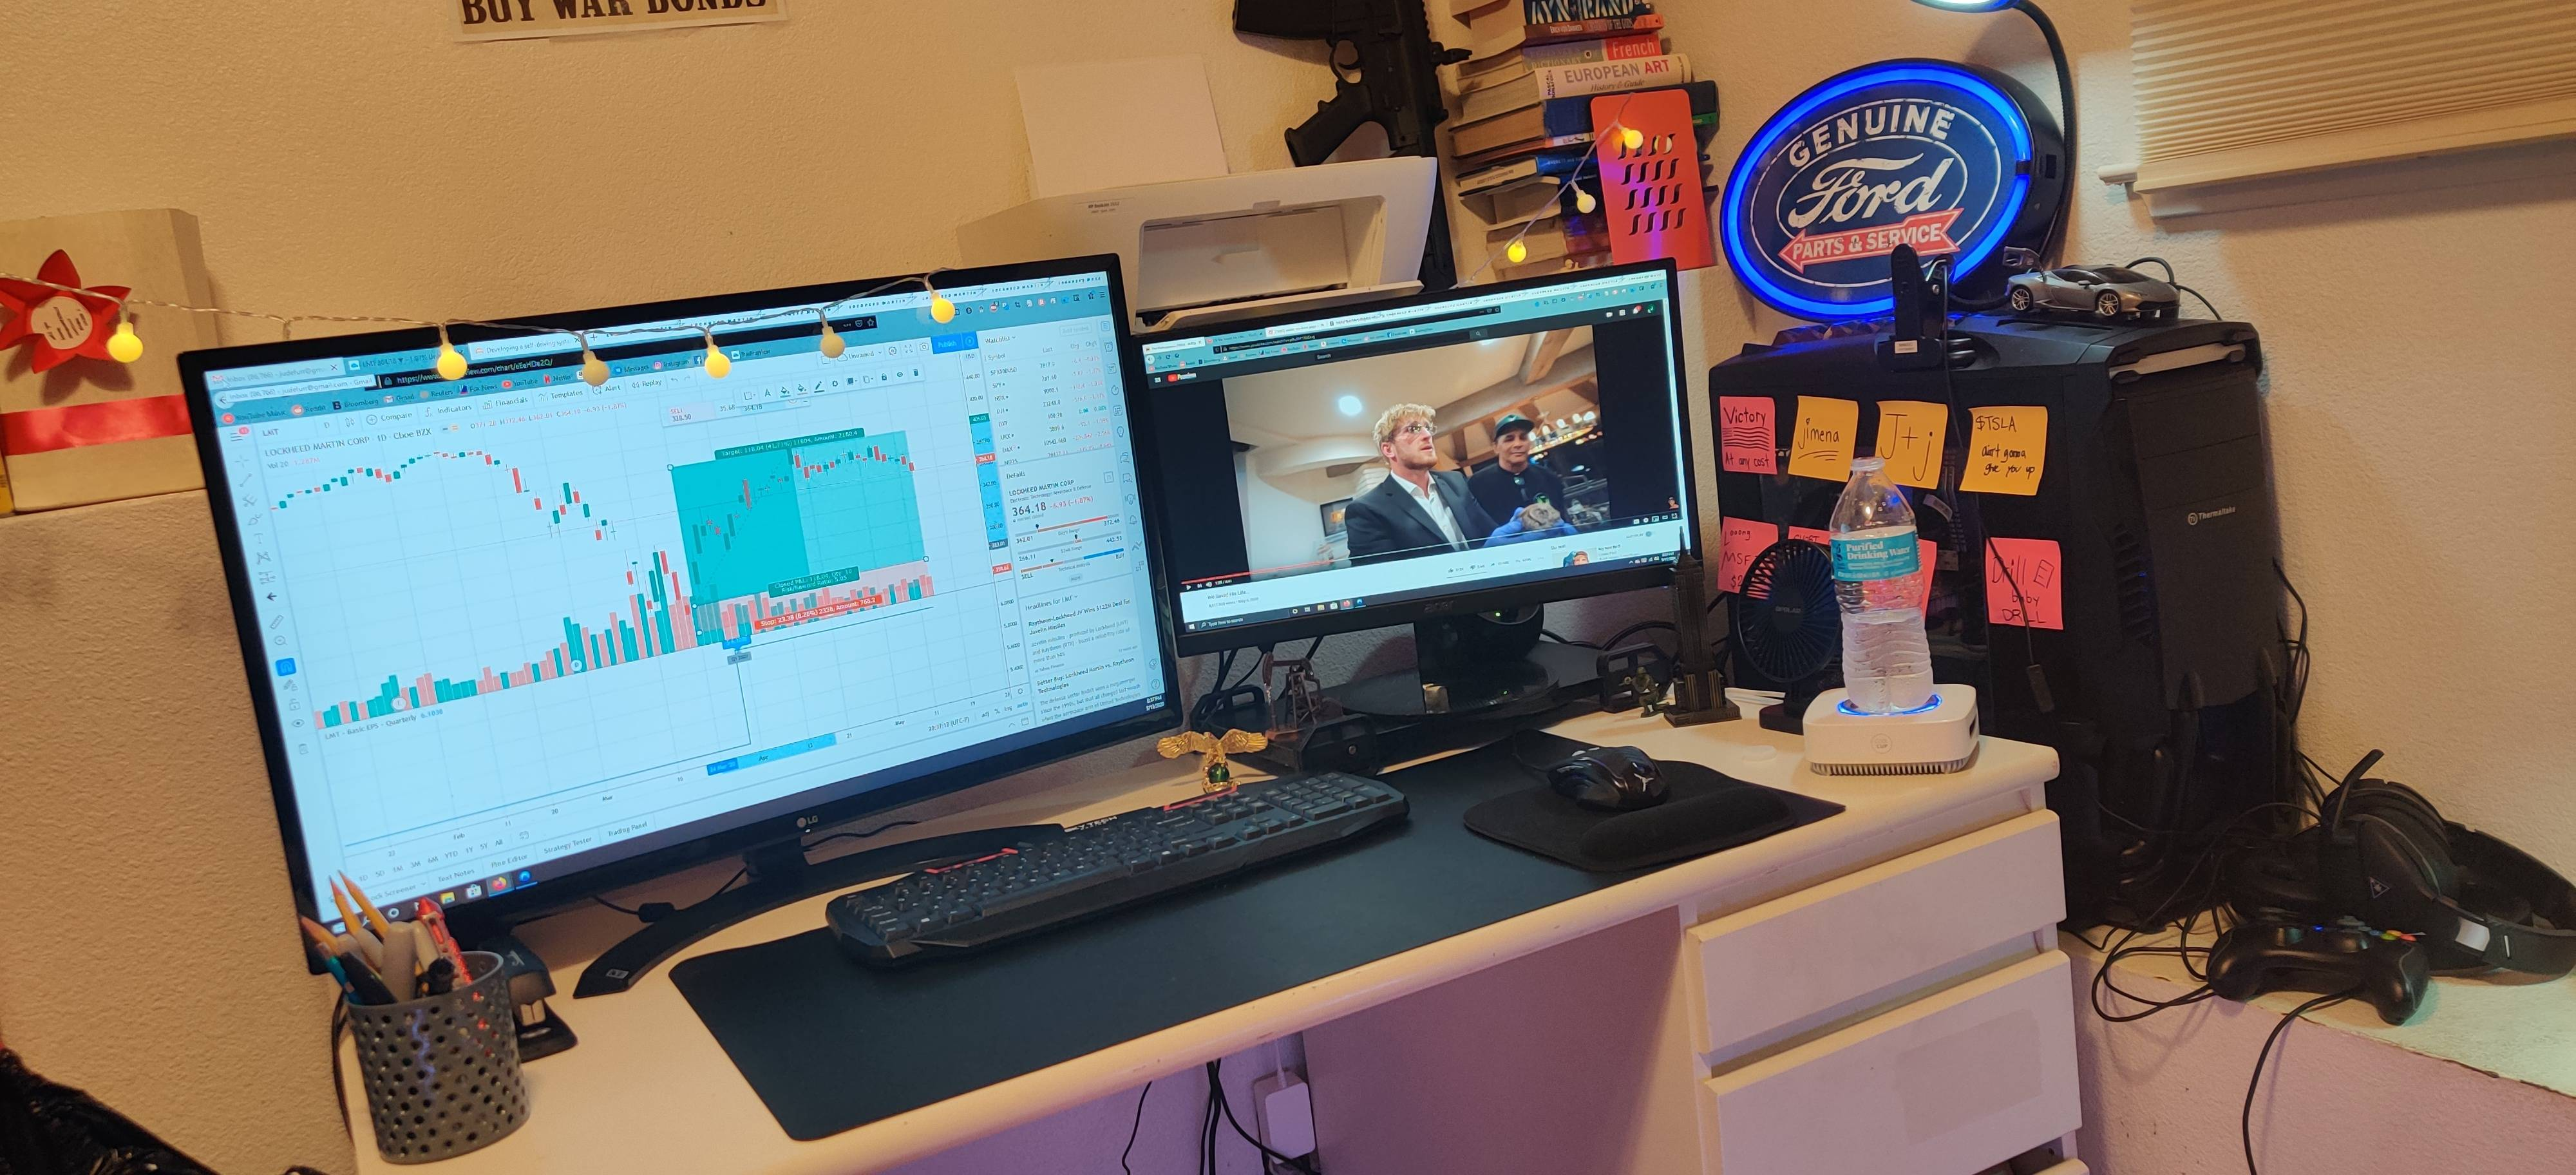Book: (1442, 0, 1723, 270)
Decoration (Generic): (1707, 51, 2088, 335)
Decoration (Miniature): (1610, 518, 1745, 733), (1988, 245, 2206, 325)
Desk (Generic): (240, 659, 2109, 1175)
Desktop (Windows): (1679, 283, 2295, 952)
Fan (Desk): (1732, 523, 1863, 748)
Gaming Controller: (2190, 907, 2464, 1032)
Headphones (with Microphone): (2310, 723, 2576, 1011)
Keyboard (Generic): (800, 753, 1410, 989)
Lamp (Desk): (1907, 0, 2134, 286)
Monitor (Landscape): (153, 243, 1201, 1014), (1127, 230, 1733, 687)
Mouse (Ergonomic): (1536, 731, 1695, 807)
Mousepad (Generic): (1447, 748, 1802, 887)
Printer: (936, 30, 1462, 322)
Water Bottle: (1819, 447, 1940, 721)
